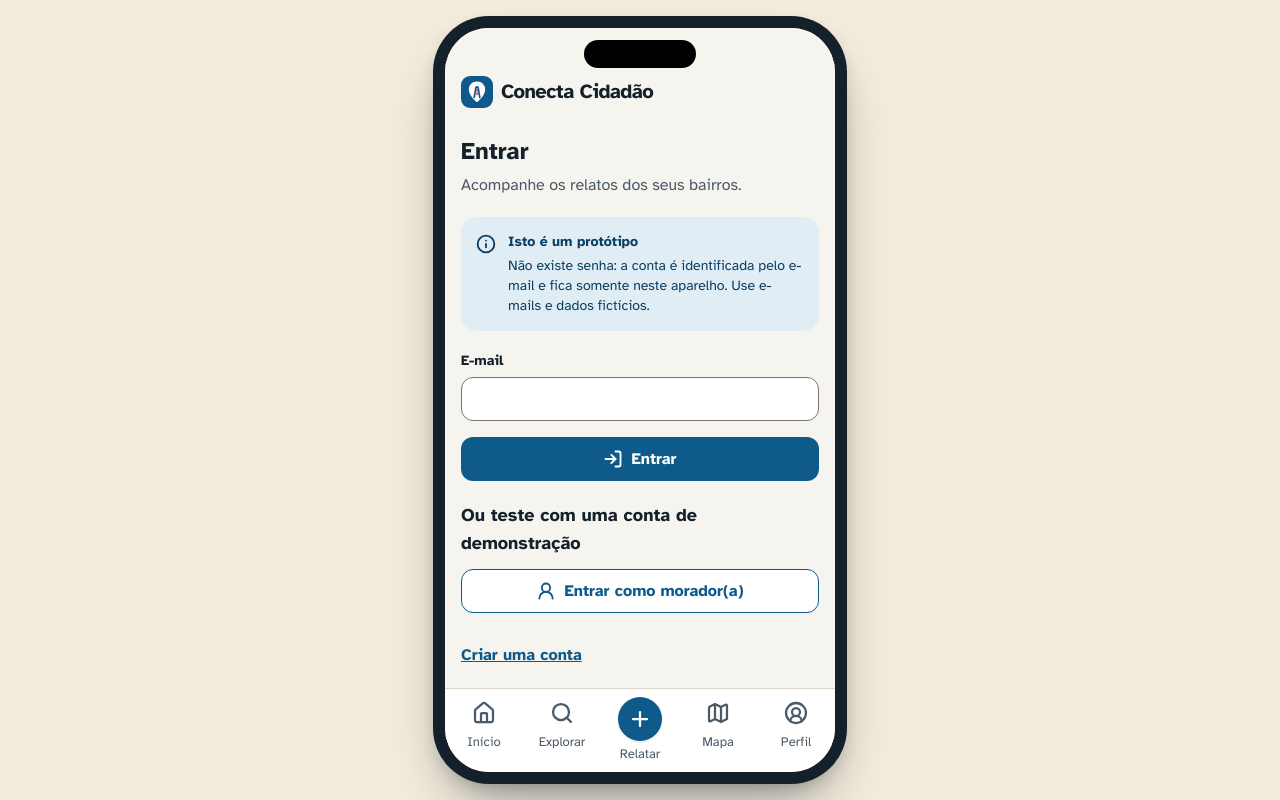
configurações › excluir a conta pede confirmação, apaga e volta para Entrar
This screenshot has width=1280, height=800.
Click the button "Entrar como morador(a)": (640, 591) [461,569,819,613]
(page scrolled)
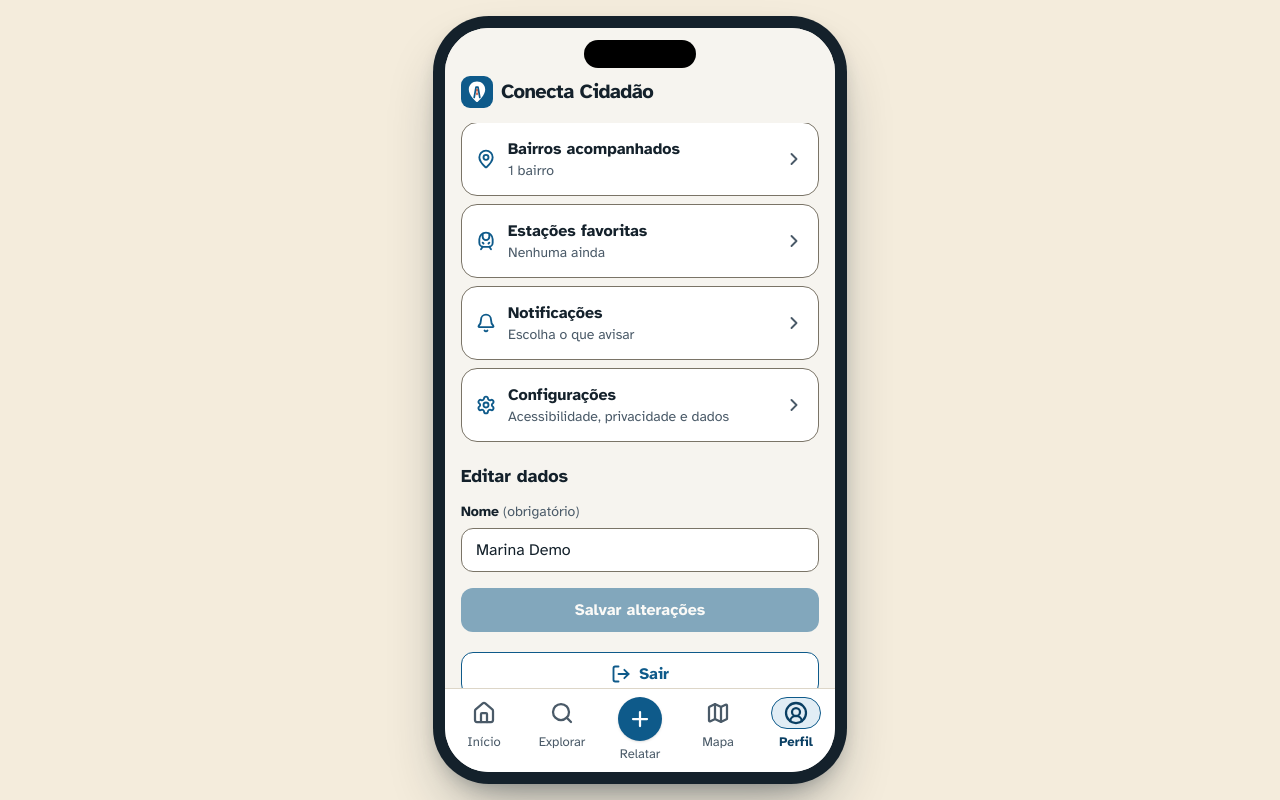
Click the link "Configurações Acessibilidade, privacidade e dados": (640, 405) [461,368,819,442]
(page scrolled)
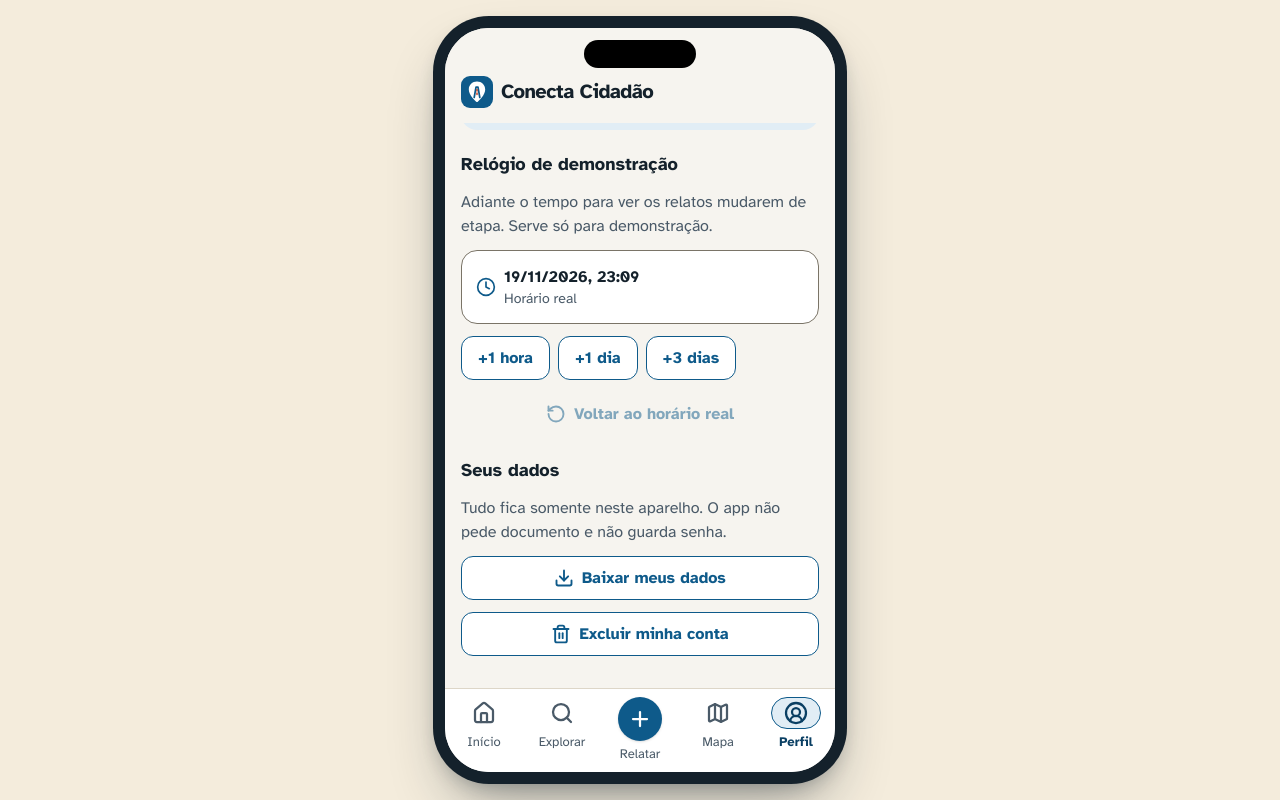
Click the button "Excluir minha conta": (640, 634) [461,612,819,656]
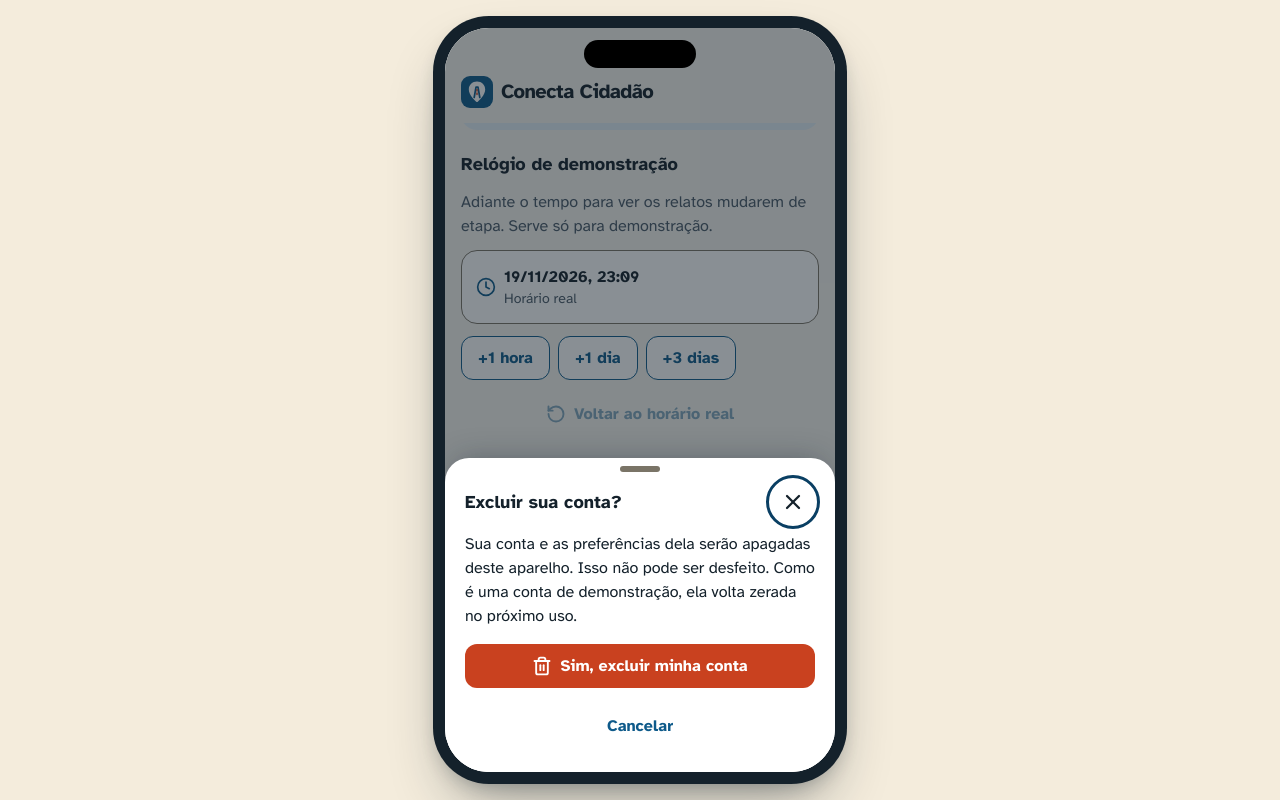
Click the button "Cancelar": (640, 726) [465,704,815,748]
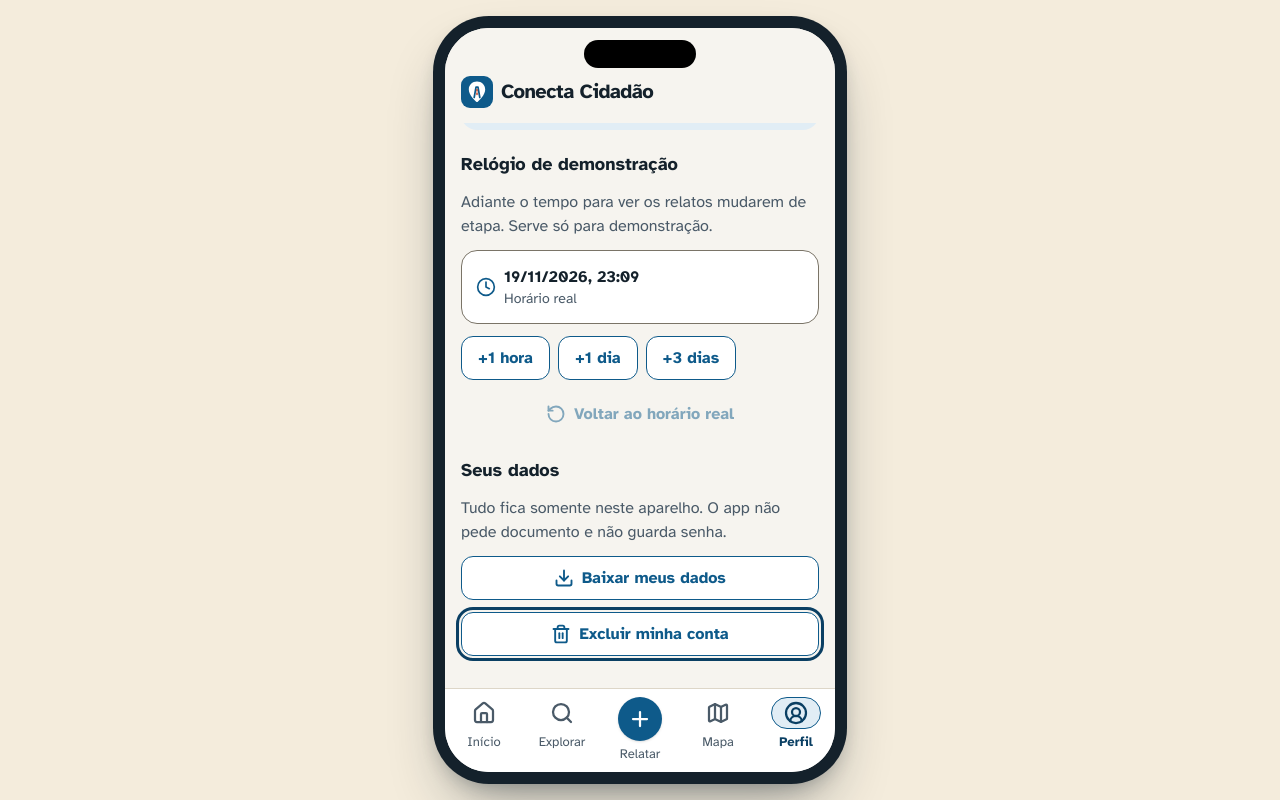
Expected: the dialog is gone
Click the button "Excluir minha conta": (640, 634) [461,612,819,656]
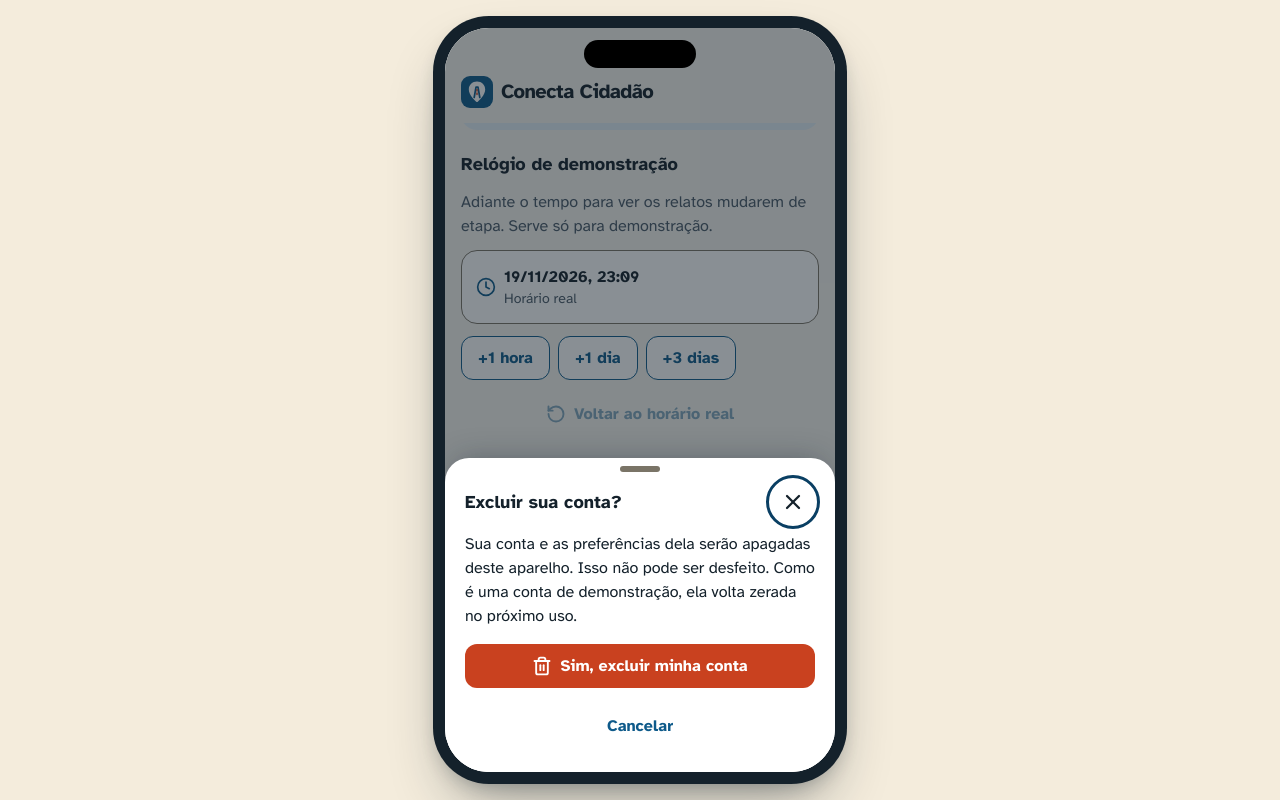
Click the button "Sim, excluir minha conta": (640, 666) [465,644,815,688]
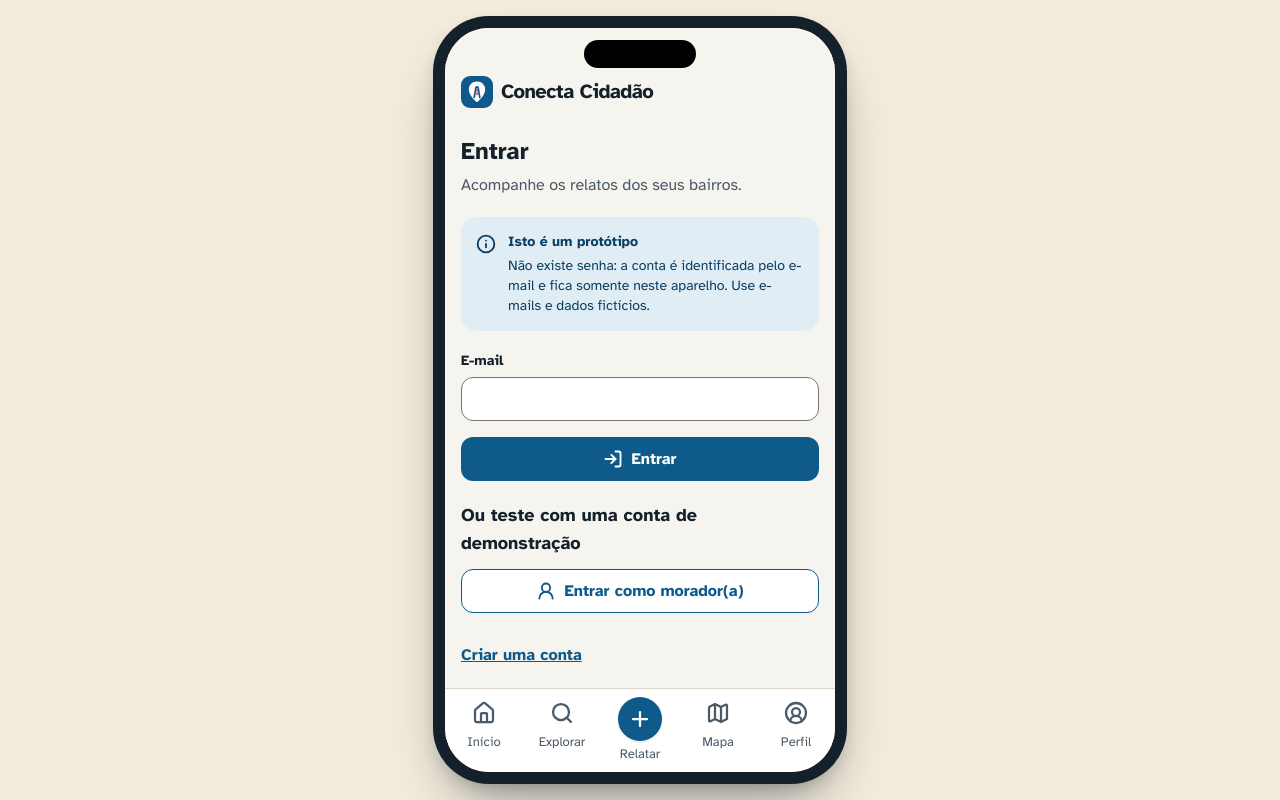
Expected: the heading "Entrar" is shown, [461,136,529,166]
